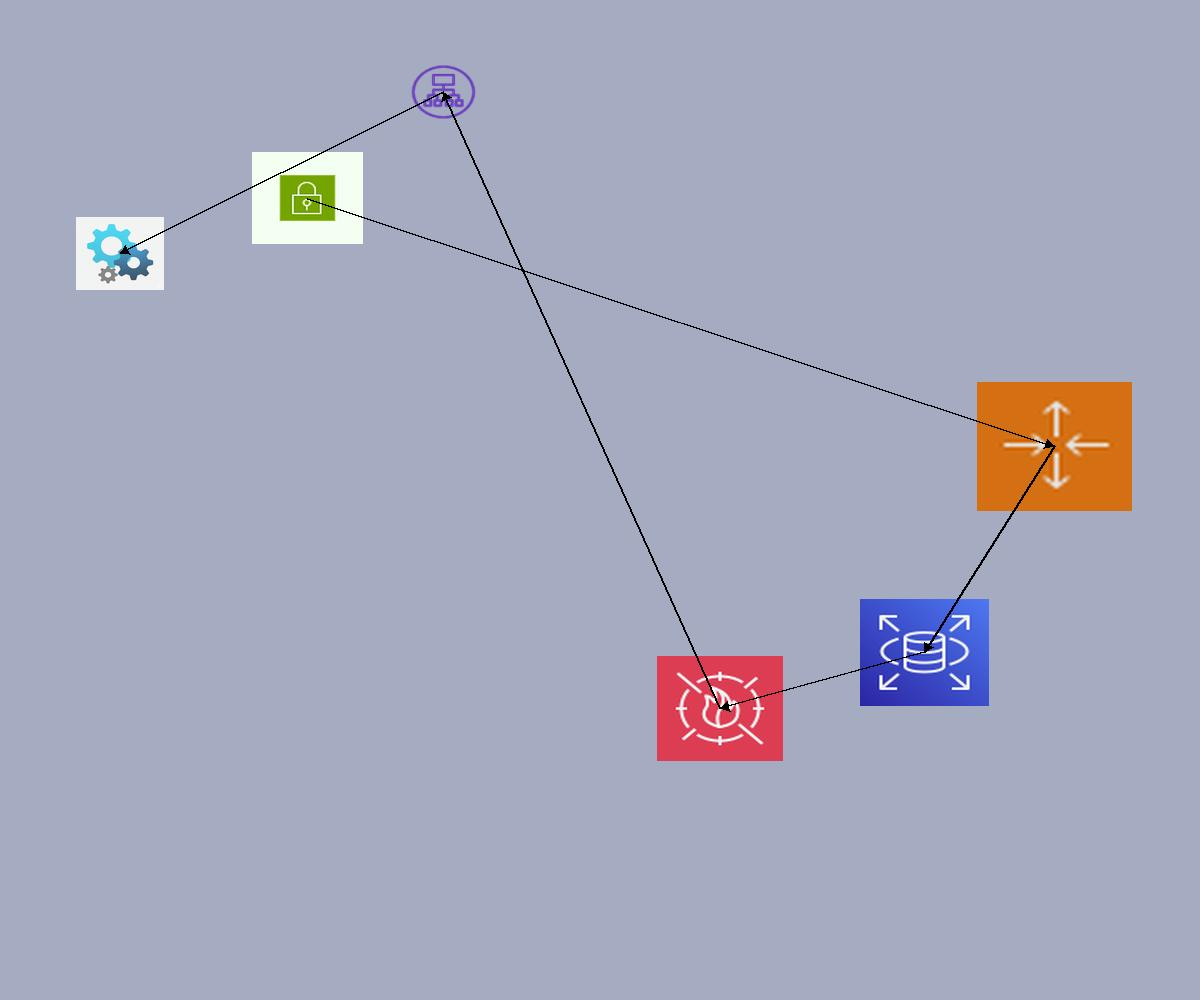AWS-Public-subnet: (252, 152, 363, 244)
AWS-RDS: (860, 599, 989, 706)
AWS-Res_Elastic-Load-Balancing_Application-Load-Balancer: (409, 63, 478, 121)
AWS-Scaling-group: (977, 382, 1132, 511)
AWS-WAF: (657, 656, 783, 761)
Azure_api: (76, 217, 164, 290)
